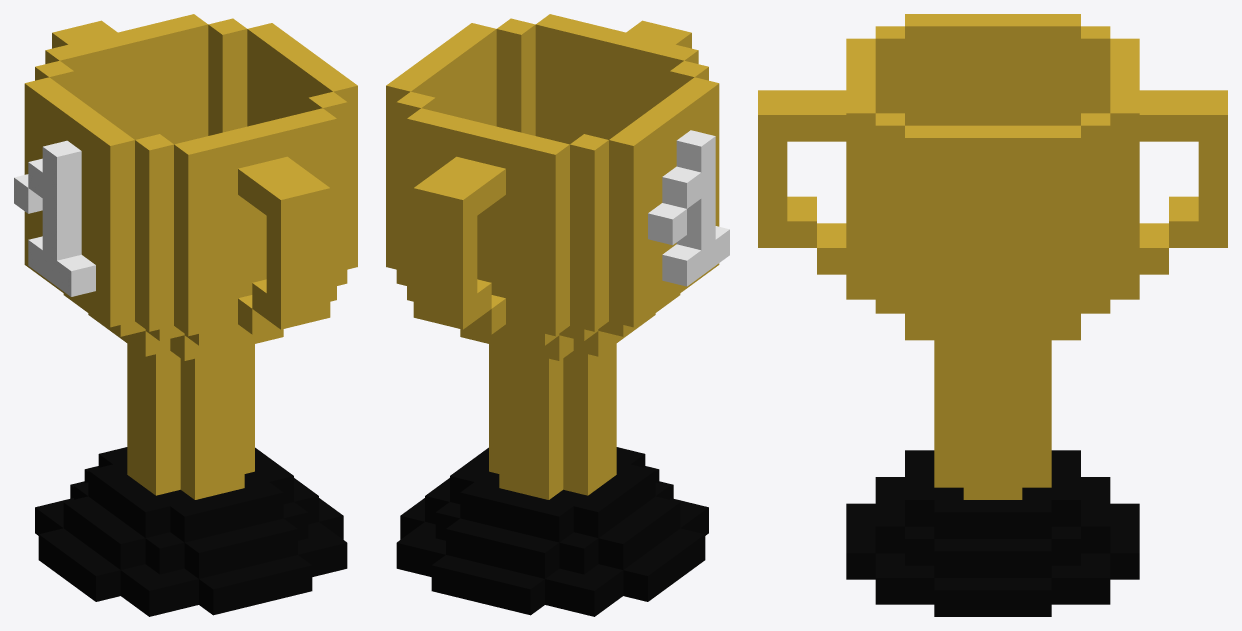
Rendered from WinnersCup.gltf.
The picture shows the model from 3 angles, left to right: view 1: azimuth 30°, elevation 25°; view 2: azimuth 150°, elevation 25°; view 3: azimuth 270°, elevation 25°; orthographic projection. The views are drawn at different scales.
Bounding box in the file's own units: 11 × 18 × 16.
Materials: 1 (1 with a texture image).
